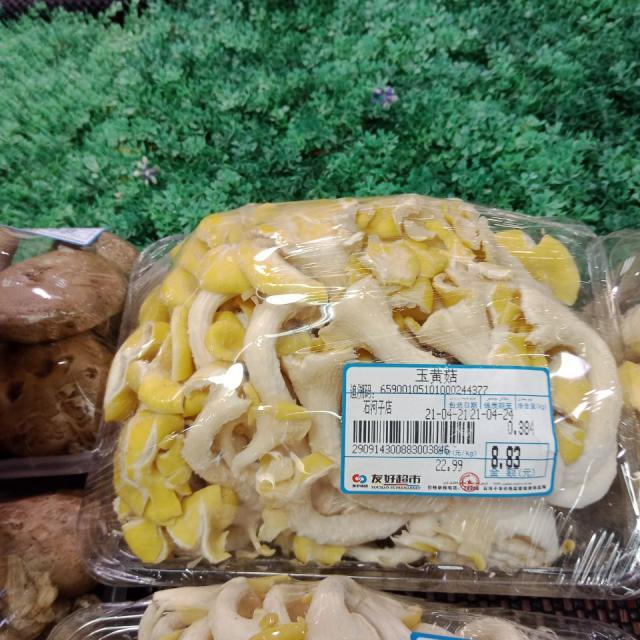Pleurotus citrinopileatus: (123, 207, 621, 579)
